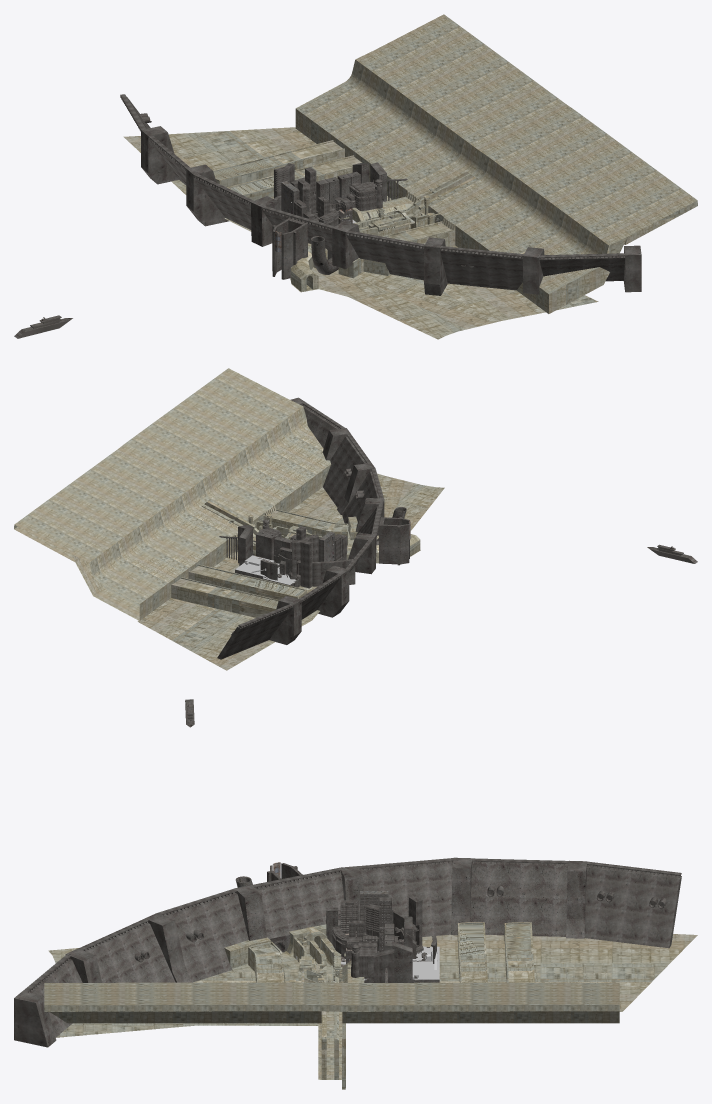
File: SM_Scene_A_Blockout00.fbx
3 views of the same model, one above another, from view 1: azimuth 30°, elevation 25°; view 2: azimuth 150°, elevation 25°; view 3: azimuth 270°, elevation 25° (orthographic). The views are drawn at different scales.
Parts seen in each view (by area): view 1: SM_Scene_A_Blockout00.030, SM_Scene_A_Blockout00.031, SM_Scene_A_Blockout00.032, SM_Scene_A_Blockout00.029, SM_Scene_A_Blockout00.002, SM_Scene_A_Blockout00.028, SM_Scene_A_Blockout00.027, SM_Scene_A_Blockout00.010, SM_Scene_A_Blockout00.003, SM_Scene_A_Blockout00.013, SM_Scene_A_Blockout00.011, SM_Scene_A_Blockout00.004 (+14 smaller); view 2: SM_Scene_A_Blockout00.030, SM_Scene_A_Blockout00.031, SM_Scene_A_Blockout00.032, SM_Scene_A_Blockout00.029, SM_Scene_A_Blockout00.028, SM_Scene_A_Blockout00.027, SM_Scene_A_Blockout00.003, SM_Scene_A_Blockout00.002, SM_Scene_A_Blockout00.013, SM_Scene_A_Blockout00.010, SM_Scene_A_Blockout00.004, SM_Scene_A_Blockout00.006 (+10 smaller); view 3: SM_Scene_A_Blockout00.004, SM_Scene_A_Blockout00.003, SM_Scene_A_Blockout00.005, SM_Scene_A_Blockout00.011, SM_Scene_A_Blockout00.010, SM_Scene_A_Blockout00.013, SM_Scene_A_Blockout00.029, SM_Scene_A_Blockout00.028, SM_Scene_A_Blockout00.007, SM_Scene_A_Blockout00.027, SM_Scene_A_Blockout00.032, SM_Scene_A_Blockout00.002 (+13 smaller).
Part boxes in pixels (x1,y1,x2,y2): SM_Scene_A_Blockout00.030: (295,50,457,181); SM_Scene_A_Blockout00.031: (459,170,627,313); SM_Scene_A_Blockout00.032: (382,111,537,247); SM_Scene_A_Blockout00.029: (538,134,697,244); SM_Scene_A_Blockout00.002: (290,245,598,339); SM_Scene_A_Blockout00.028: (374,14,526,111); SM_Scene_A_Blockout00.027: (458,75,606,169); SM_Scene_A_Blockout00.010: (424,237,544,295); SM_Scene_A_Blockout00.003: (123,127,391,231); SM_Scene_A_Blockout00.013: (251,196,338,279); SM_Scene_A_Blockout00.011: (332,220,424,280); SM_Scene_A_Blockout00.004: (141,126,229,226); SM_Scene_A_Blockout00.030: (73,504,209,620); SM_Scene_A_Blockout00.031: (211,398,330,511); SM_Scene_A_Blockout00.032: (143,454,277,567); SM_Scene_A_Blockout00.029: (152,368,286,453); SM_Scene_A_Blockout00.028: (14,473,142,561); SM_Scene_A_Blockout00.027: (85,423,210,503); SM_Scene_A_Blockout00.003: (137,551,319,670); SM_Scene_A_Blockout00.002: (288,473,444,556); SM_Scene_A_Blockout00.013: (348,504,410,574); SM_Scene_A_Blockout00.010: (322,428,375,514); SM_Scene_A_Blockout00.004: (269,565,349,644); SM_Scene_A_Blockout00.006: (171,577,278,617); SM_Scene_A_Blockout00.004: (451,857,587,938); SM_Scene_A_Blockout00.003: (422,934,697,1011); SM_Scene_A_Blockout00.005: (584,861,681,948); SM_Scene_A_Blockout00.011: (158,885,270,982); SM_Scene_A_Blockout00.010: (65,913,192,982); SM_Scene_A_Blockout00.013: (235,862,363,952); SM_Scene_A_Blockout00.029: (44,988,249,1011); SM_Scene_A_Blockout00.028: (431,988,619,1011); SM_Scene_A_Blockout00.007: (358,858,453,936); SM_Scene_A_Blockout00.027: (249,988,430,1011); SM_Scene_A_Blockout00.032: (249,976,430,1089); SM_Scene_A_Blockout00.002: (48,948,345,1079).
Size of the model in its own units: 212145 by 31354 by 179277.
